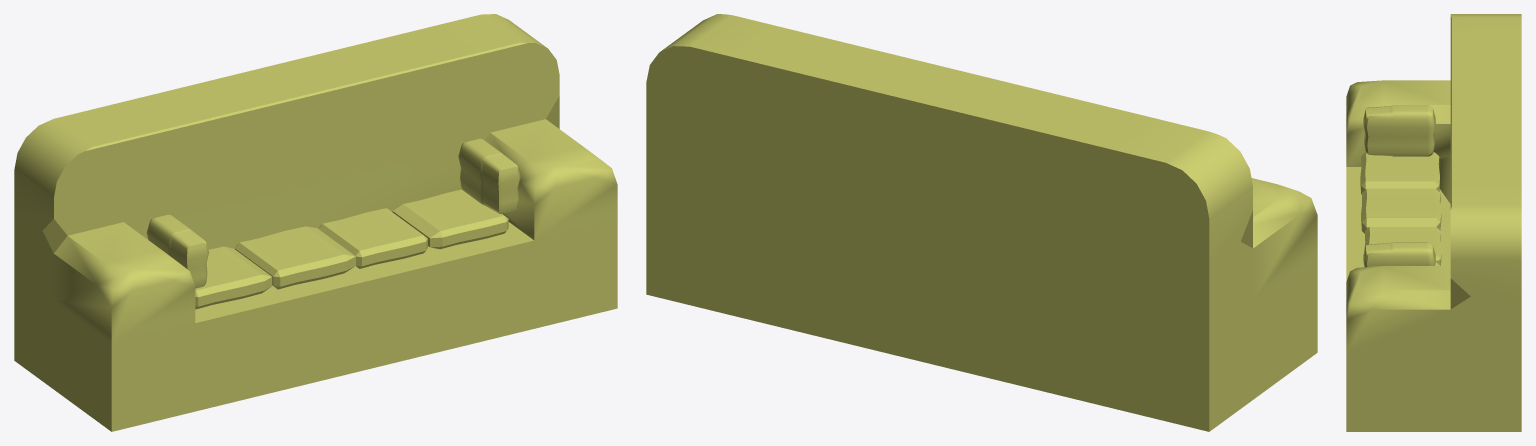
File: sofa.fbx
3 views of the same model, side by side, from view 1: azimuth 30°, elevation 25°; view 2: azimuth 150°, elevation 25°; view 3: azimuth 270°, elevation 25° (orthographic). The views are drawn at different scales.
Parts seen in each view (by area): view 1: pCube4; view 2: pCube4; view 3: pCube4.
Boxes of the visible parts, x1,y1,x2,y2 form: pCube4: [14, 14, 617, 431]; pCube4: [646, 14, 1317, 431]; pCube4: [1346, 14, 1521, 431].
Bounding box in the file's own units: 5.99 × 2.63 × 1.99.
